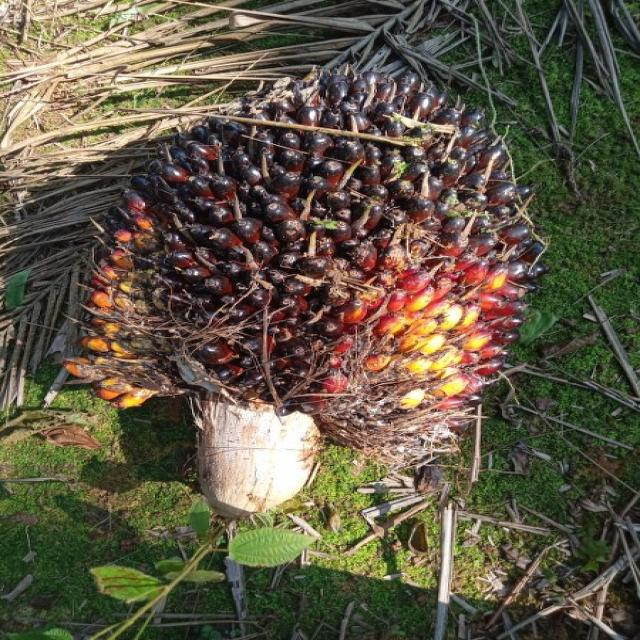fraksi 1: (21, 21, 600, 568)
